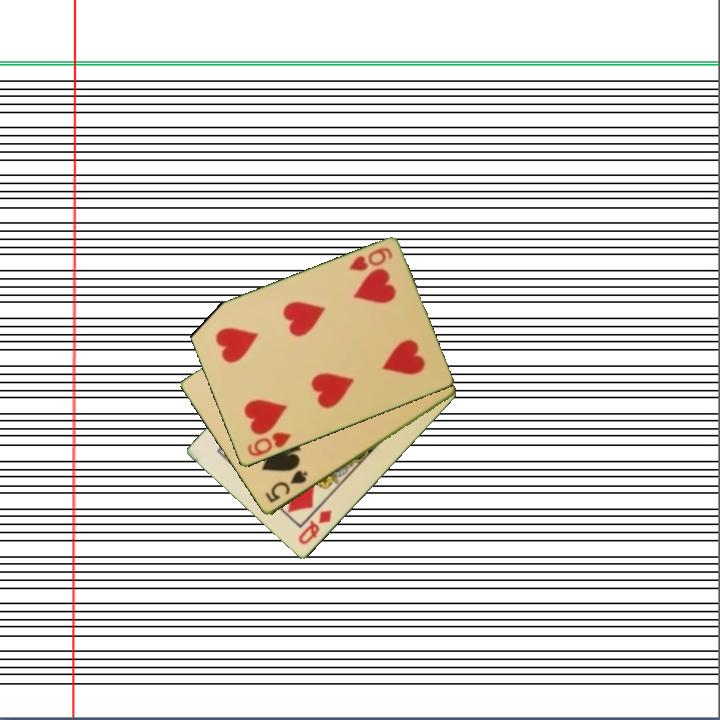5s: (261, 467, 311, 506)
6h: (243, 429, 294, 460), (345, 244, 395, 274)
Qd: (294, 507, 335, 548)
